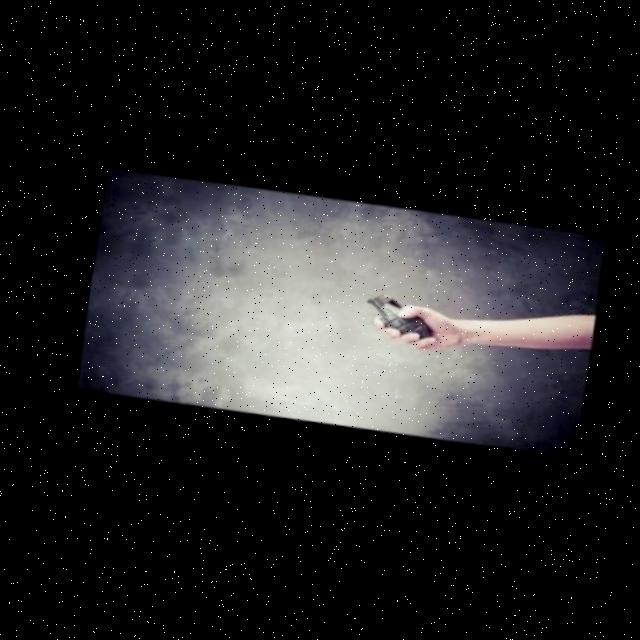grenade: (350, 284, 443, 350)
